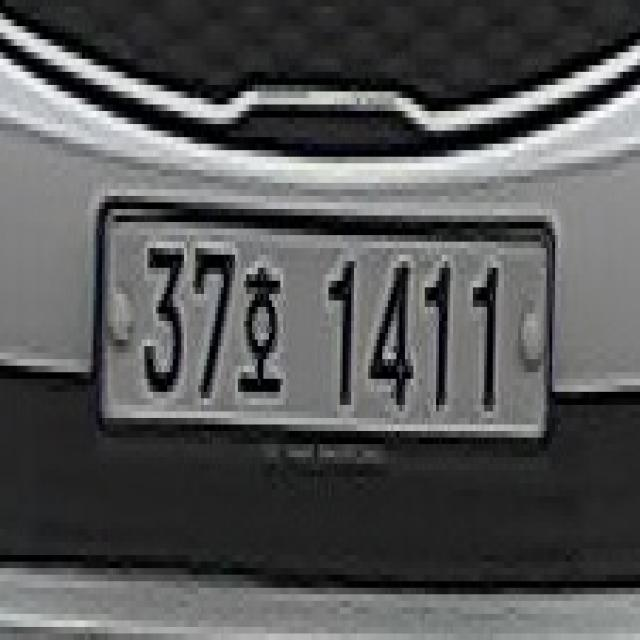1: (328, 248, 357, 405), (422, 261, 453, 405), (473, 262, 501, 412)
3: (141, 235, 187, 412)
4: (366, 255, 414, 411)
7: (193, 242, 235, 398)
ho: (235, 262, 286, 398)
license_plate: (99, 202, 555, 450)
